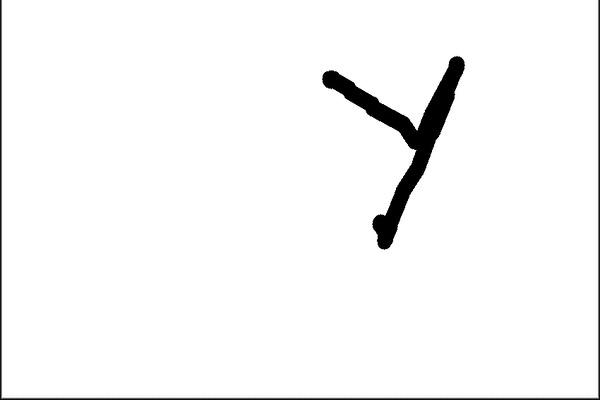Y: (309, 44, 474, 260)
